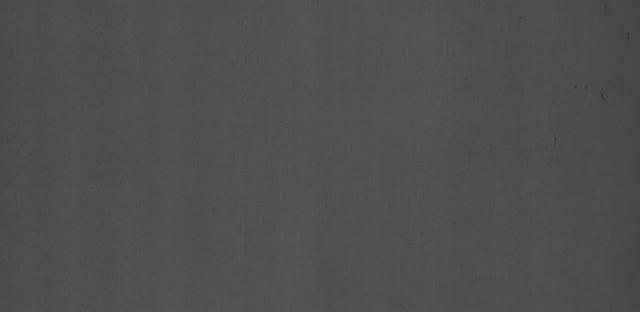inclusion: (569, 73, 614, 115)
